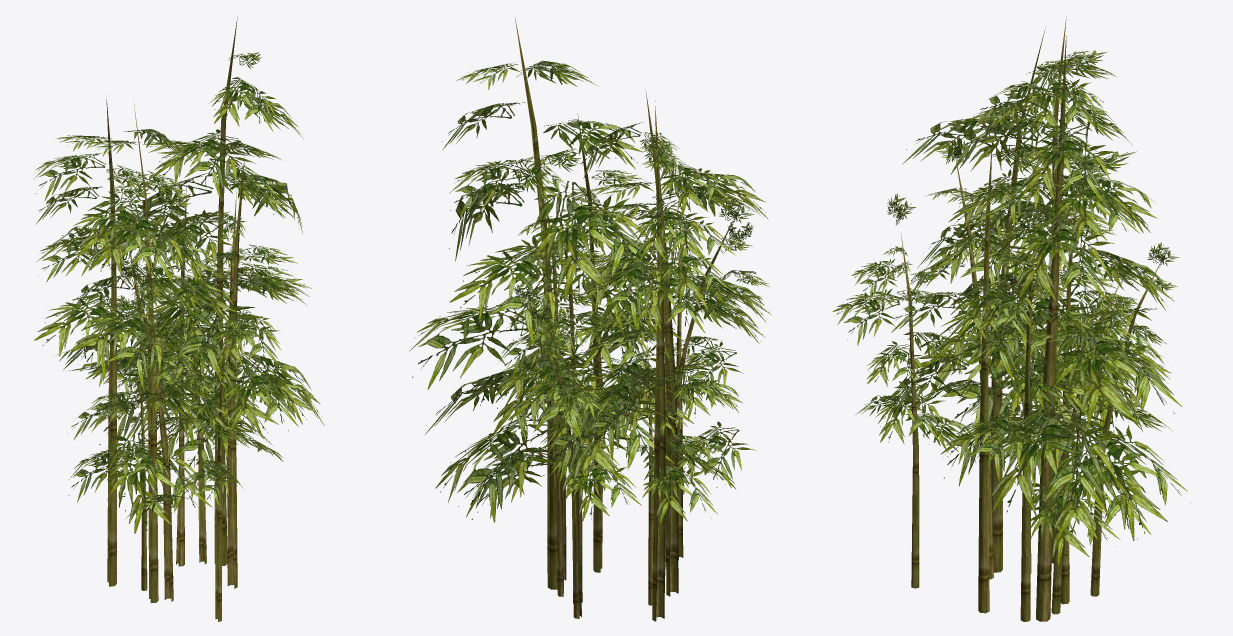
The model's file is S_Tree_Green004_1.FBX.
3 views of the same model, side by side, from view 1: azimuth 30°, elevation 25°; view 2: azimuth 150°, elevation 25°; view 3: azimuth 270°, elevation 25° (orthographic). The views are drawn at different scales.
Visible parts, largest first — view 1: S_Tree_Green004_1; view 2: S_Tree_Green004_1; view 3: S_Tree_Green004_1.
Part boxes in pixels (<box>): S_Tree_Green004_1: <box>33,17,324,621</box>; S_Tree_Green004_1: <box>409,17,771,621</box>; S_Tree_Green004_1: <box>832,16,1190,621</box>.
Bounding box in the file's own units: 556 × 524 × 896.
